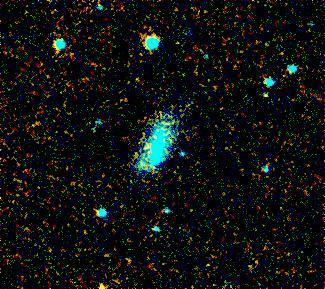star: (250, 78, 280, 108)
